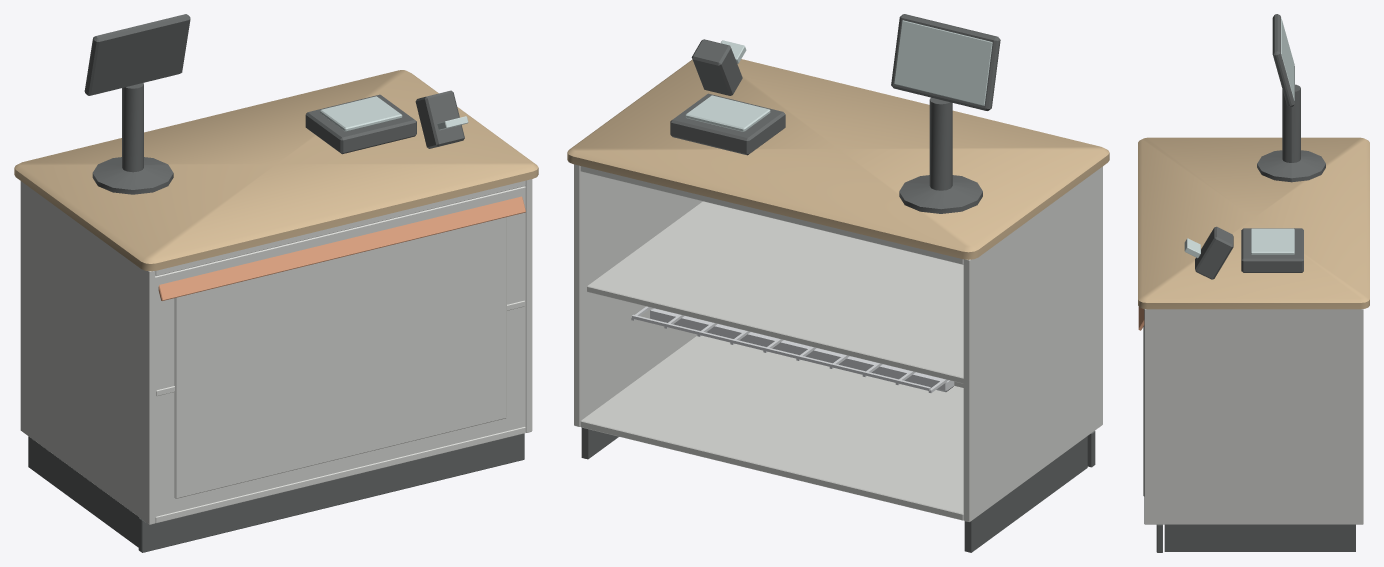
File: garden-centre-and-florist-till-counter-module-0e1d5dd1__17773.glb
The picture shows the model from 3 angles, left to right: view 1: azimuth 30°, elevation 25°; view 2: azimuth 150°, elevation 25°; view 3: azimuth 270°, elevation 25°; orthographic projection. The views are drawn at different scales.
Visible parts, largest first — view 1: till-counter-module; view 2: till-counter-module; view 3: till-counter-module.
Part boxes in pixels (box(x1,y1,x2,y2)): till-counter-module: box(14, 14, 538, 552); till-counter-module: box(567, 14, 1109, 552); till-counter-module: box(1138, 14, 1369, 552).
Size of the model in its own units: 1.24 by 1.38 by 0.74.
